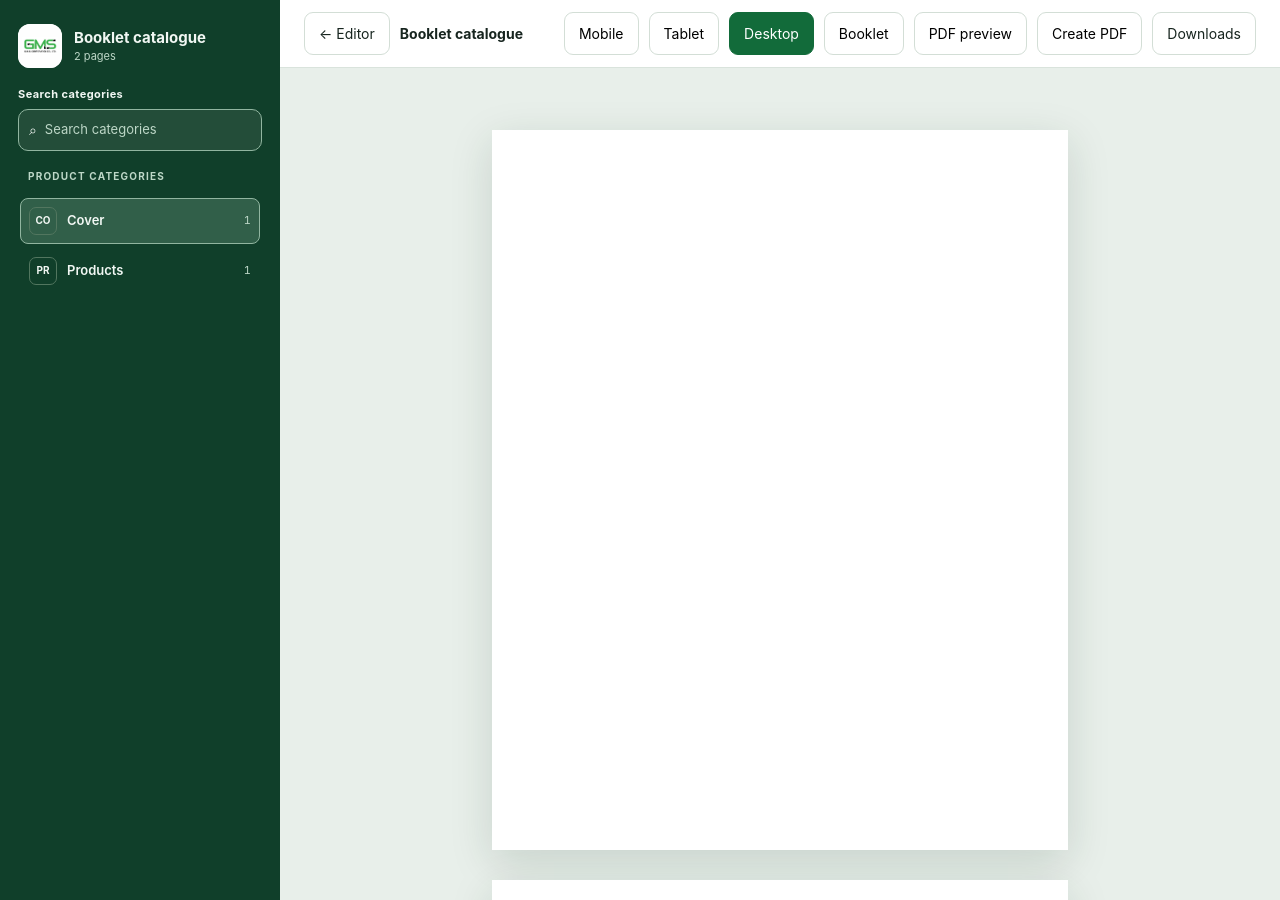
Test: StudioPreview › opens the catalogue as a navigable booklet
Step 1. Click the button "Booklet" → (864, 34), box [824, 12, 904, 55]
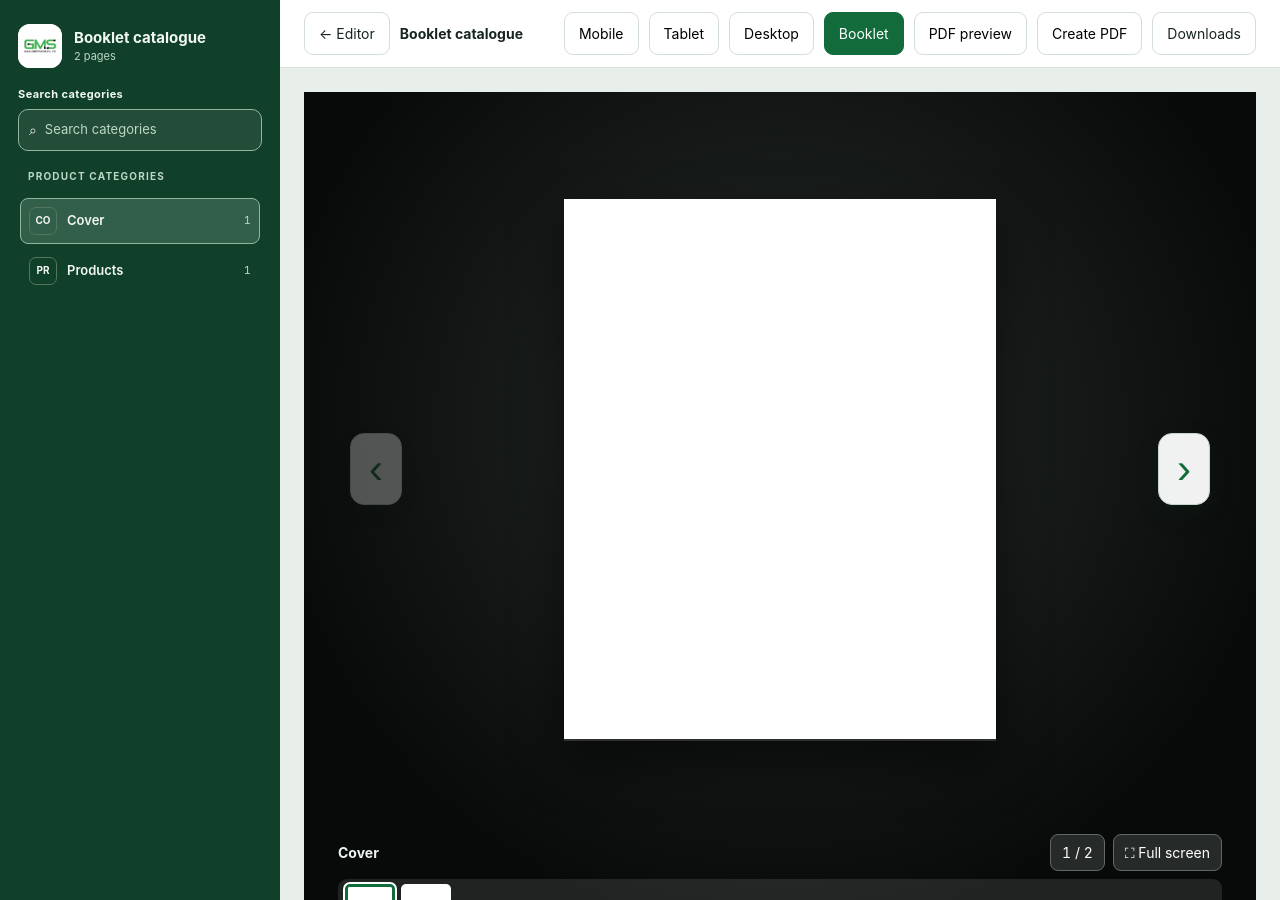
Result: the text "1 / 2" is shown at [1050, 834, 1105, 871]
Result: the button named "Previous booklet page" is disabled at [350, 433, 402, 505]
Step 2. Click the button named "Next booklet page" → (1184, 469), box [1158, 433, 1210, 505]
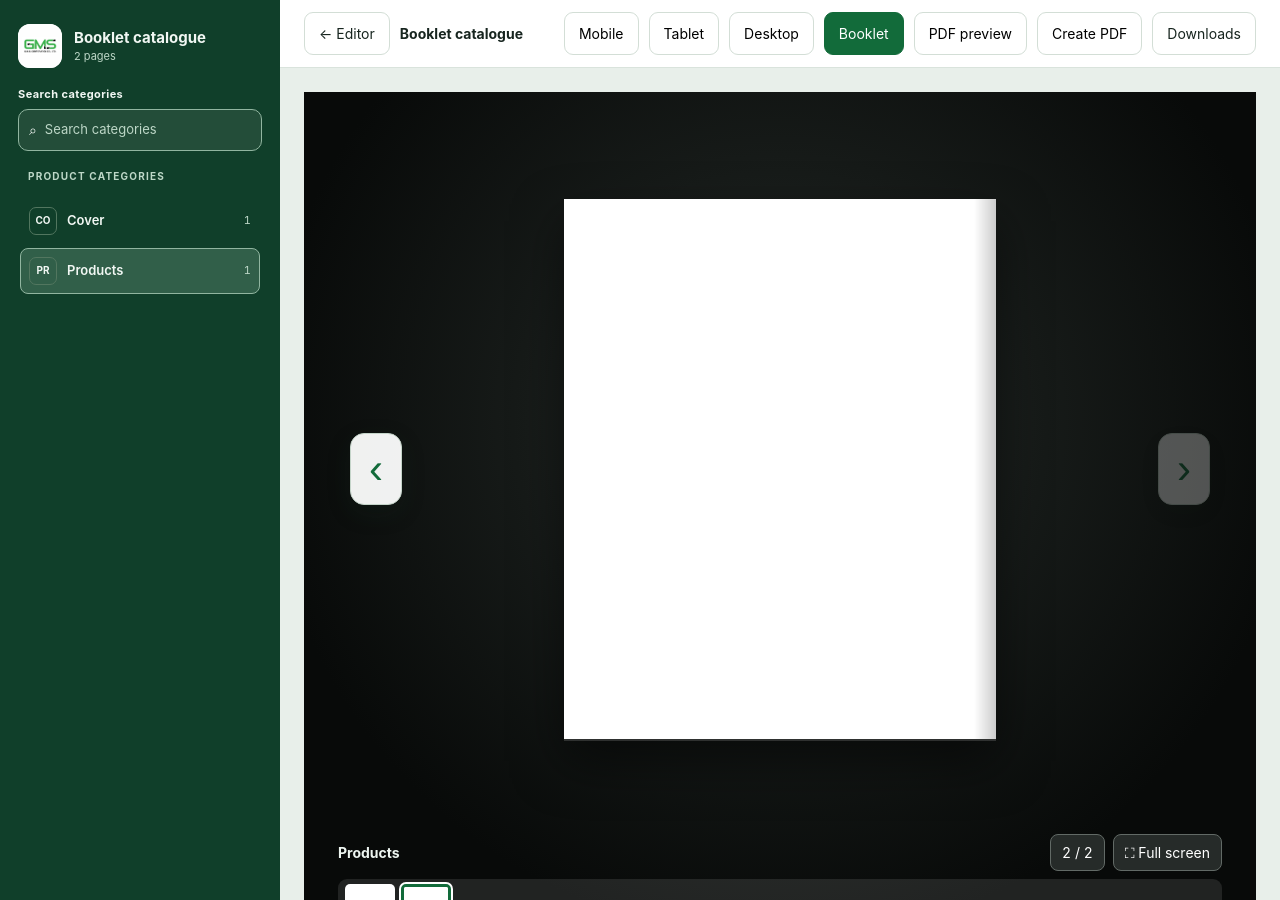
Expected: the text "Products" is shown 2 times, [67, 262, 124, 278]; [338, 842, 400, 863]
Result: the text "2 / 2" is shown at [1050, 834, 1105, 871]
